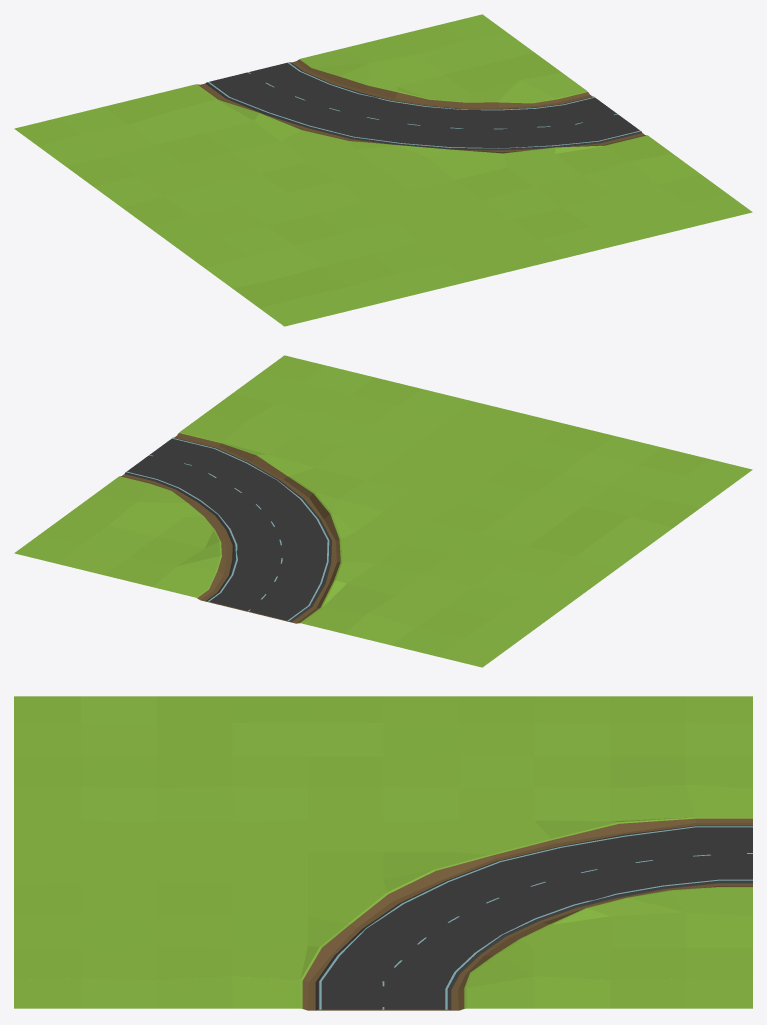
Rendered from model_road_grass_cornor_1.fbx.
3 views of the same model, one above another, from view 1: azimuth 30°, elevation 25°; view 2: azimuth 150°, elevation 25°; view 3: azimuth 270°, elevation 25° (orthographic). The views are drawn at different scales.
Visible parts, largest first — view 1: model_road_grass_cornor_1; view 2: model_road_grass_cornor_1; view 3: model_road_grass_cornor_1.
Part boxes in pixels (x1=…): model_road_grass_cornor_1: x1=14, y1=14, x2=752, y2=326; model_road_grass_cornor_1: x1=14, y1=355, x2=752, y2=667; model_road_grass_cornor_1: x1=14, y1=696, x2=752, y2=1010.
Size of the model in its own units: 6000 by 62.78 by 6000.
1 material, 1 textured.
